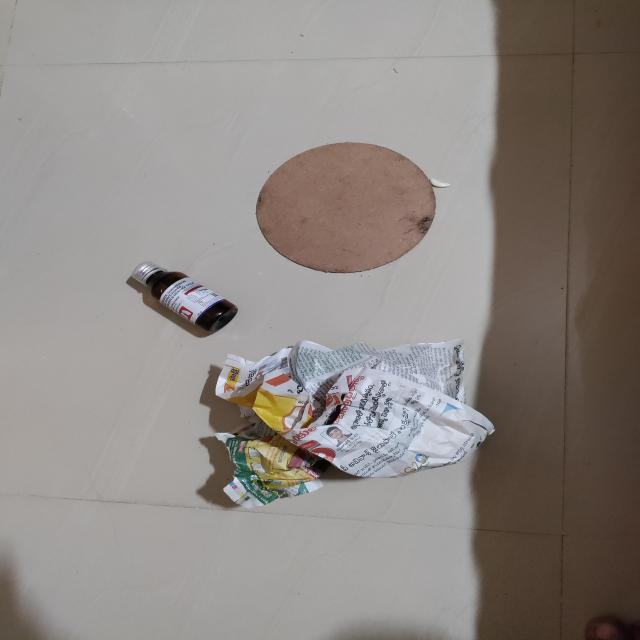paper: (172, 331, 510, 505), (252, 155, 458, 269)
plastic: (117, 267, 258, 332)
